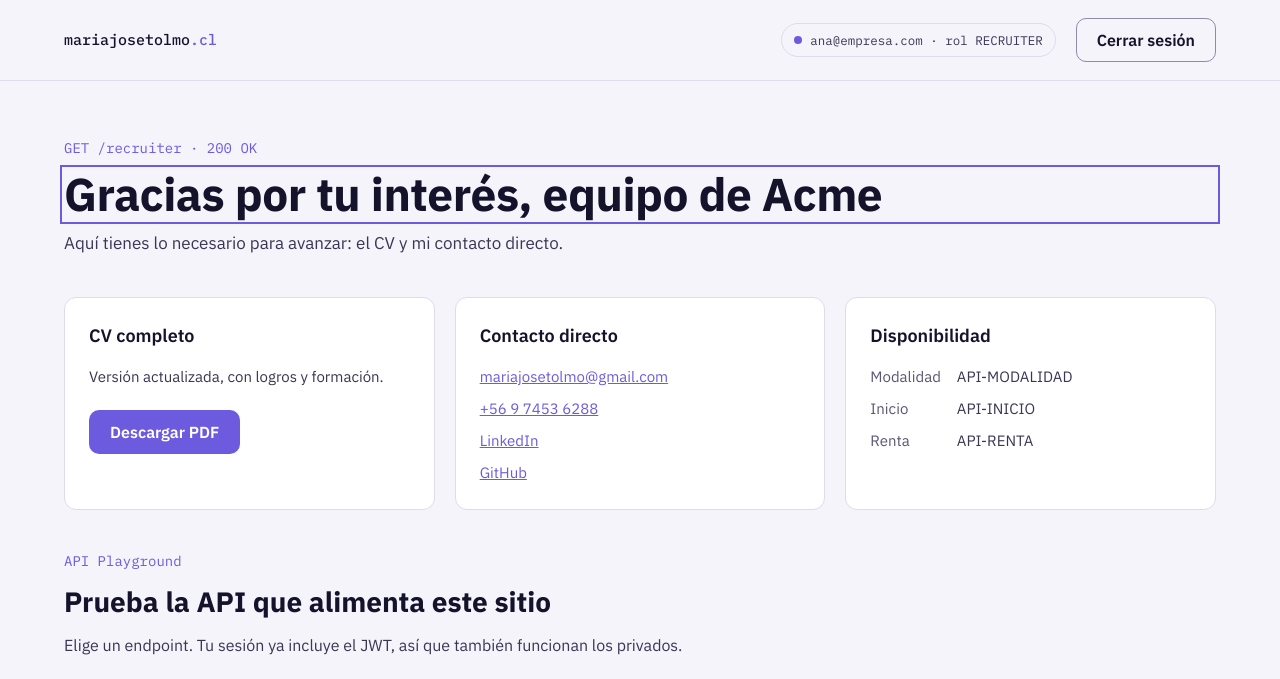
Test: RecruiterZone CV download › keeps the CV-specific copy for an unexpected answer
The width and height of the screenshot is (1280, 679).
Expected: the heading "Gracias por tu interés, equipo de Acme" is shown, [64,164,882,224]
Click the button "Descargar PDF".
click(165, 432)  # box [89,410,240,454]
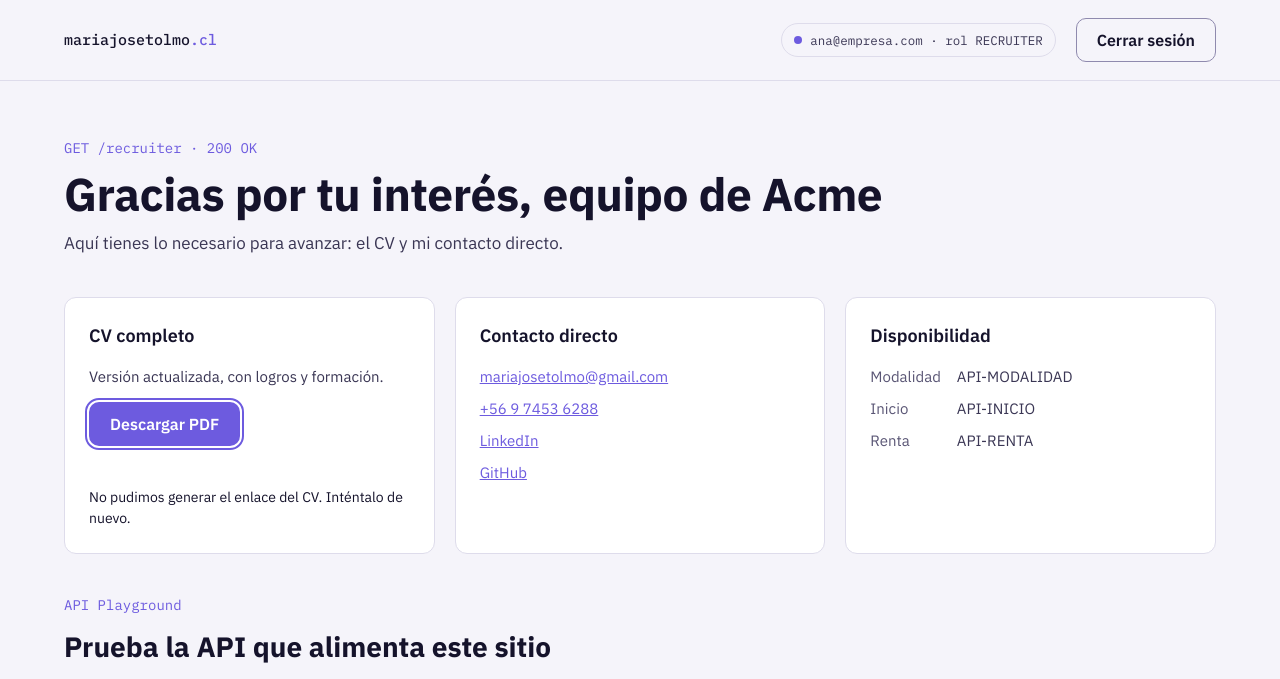
Now the message reads "No pudimos generar el enlace del CV. Inténtalo de nuevo.", box [89,488,403,527]
